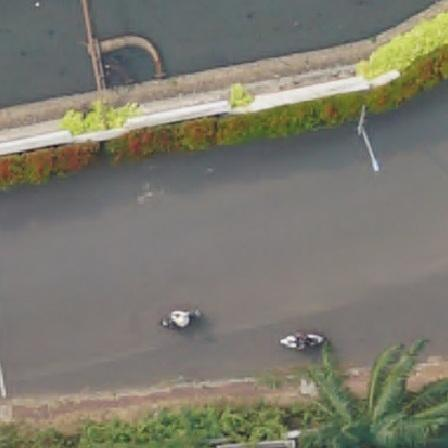Motorcycle: (276, 332, 329, 354), (160, 307, 202, 330)
